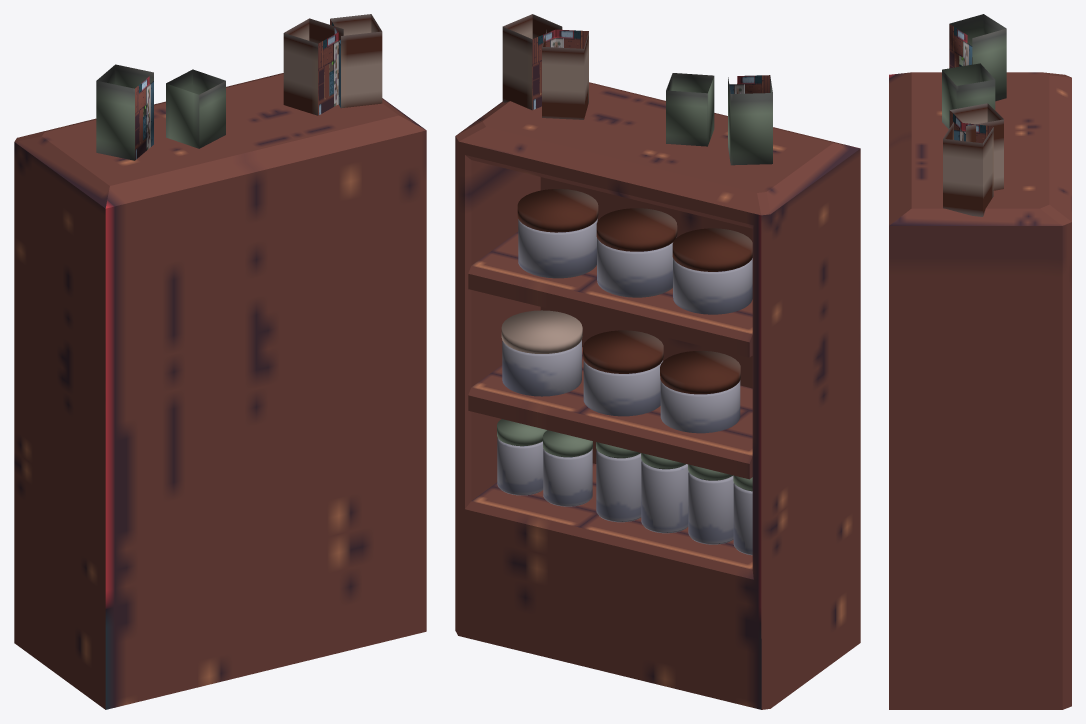
File: Armario.fbx
3 views of the same model, side by side, from view 1: azimuth 30°, elevation 25°; view 2: azimuth 150°, elevation 25°; view 3: azimuth 270°, elevation 25° (orthographic). The views are drawn at different scales.
Parts seen in each view (by area): view 1: Estante1; view 2: Estante1; view 3: Estante1.
Part boxes in pixels (<box>): Estante1: <box>14,14,426,709</box>; Estante1: <box>455,14,860,709</box>; Estante1: <box>889,14,1071,709</box>.
Bounding box in the file's own units: 194 × 99.18 × 353.
